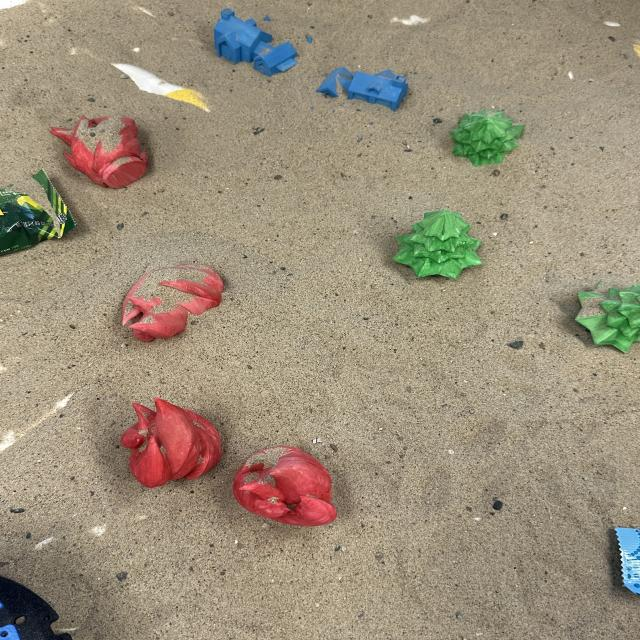fire: (119, 396, 222, 488), (231, 445, 338, 527), (120, 262, 224, 342), (48, 114, 149, 190)
house: (212, 7, 316, 76), (317, 68, 408, 111)
tree: (391, 208, 483, 280), (448, 107, 525, 167), (573, 282, 640, 350)
